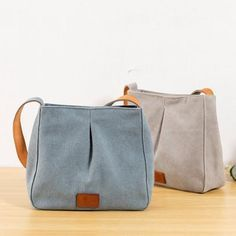nylon: (12, 81, 225, 211)
